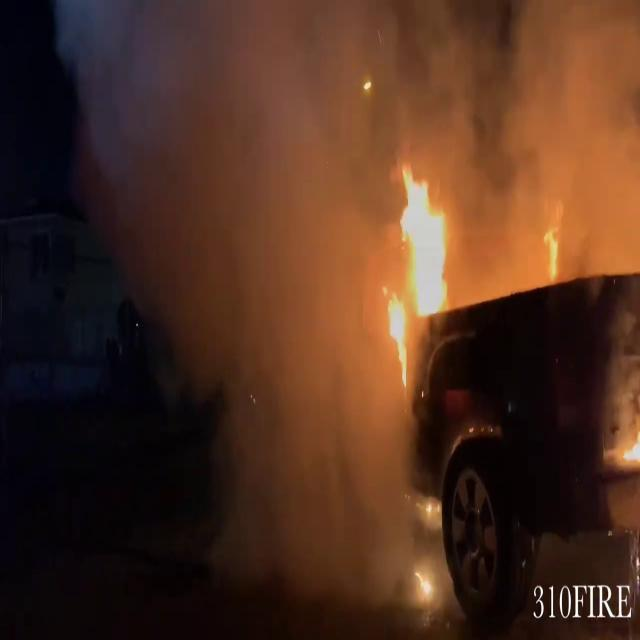Fire: (382, 162, 458, 376), (615, 406, 640, 475)
Smoke: (44, 0, 432, 582), (415, 0, 640, 266)
